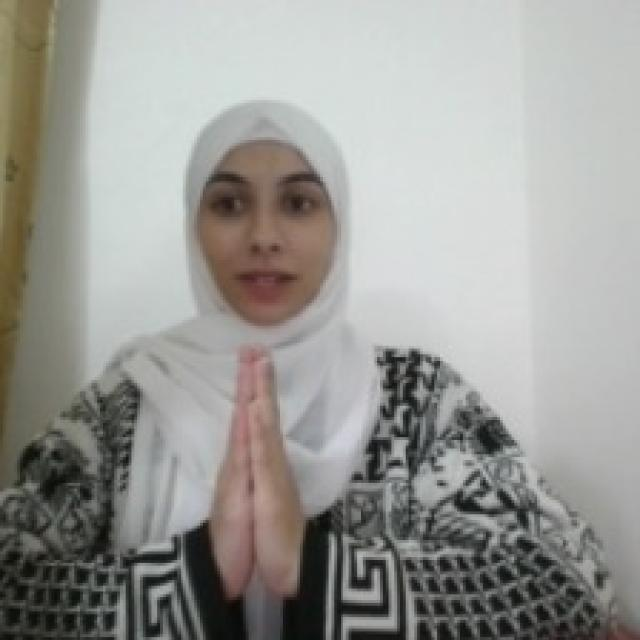sorry: (197, 334, 314, 610)
